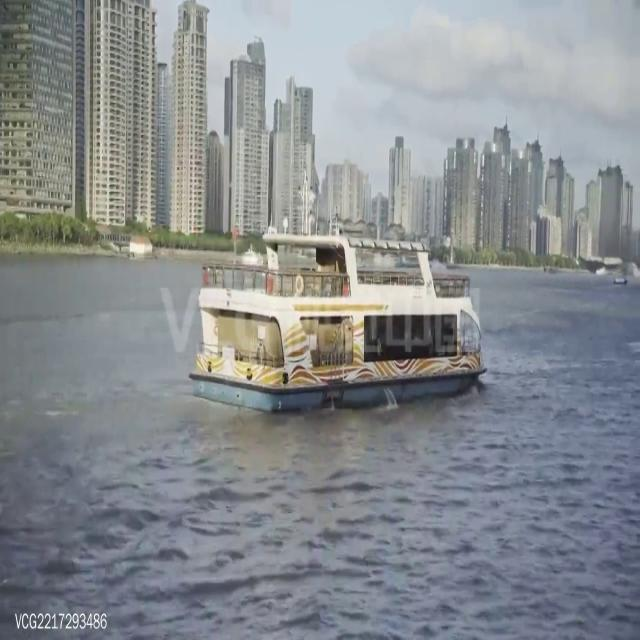passenger ship: (191, 215, 490, 419)
